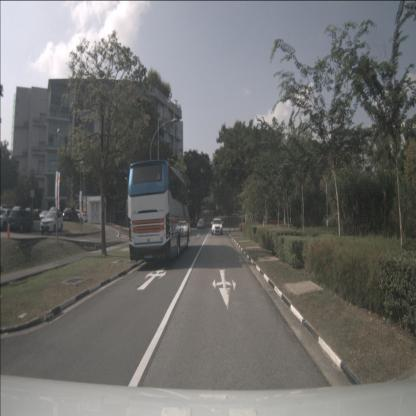cone: (7, 223, 11, 238)
